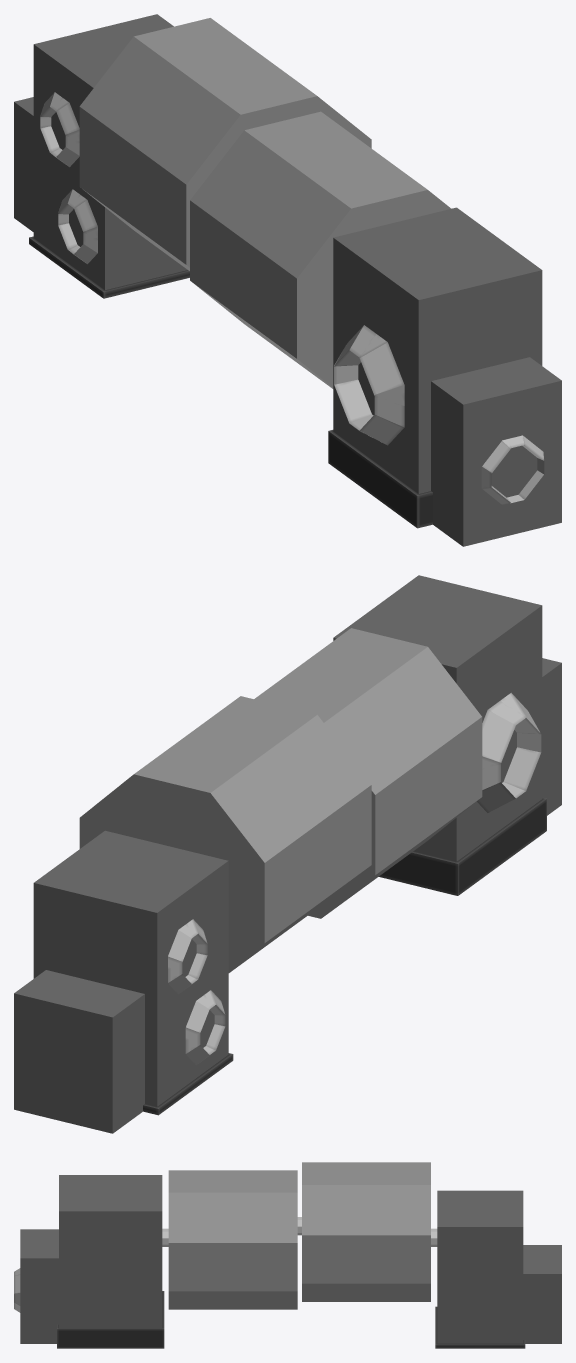
Rendered from Machinestuff.fbx.
3 views of the same model, one above another, from view 1: azimuth 30°, elevation 25°; view 2: azimuth 150°, elevation 25°; view 3: azimuth 270°, elevation 25° (orthographic). The views are drawn at different scales.
Visible parts, largest first — view 1: barrel2, bigm_1, barrel, smallm_1, bigm, ring_1, floor_1, smallm, ring, ring2, ring3, floor; view 2: barrel, bigm, barrel2, bigm_1, smallm, floor_1, ring_1, smallm_1, ring2, ring, floor; view 3: barrel2, barrel, bigm_1, bigm, smallm_1, smallm, floor_1, floor, ring3.
Part boxes in pixels (x1,y1,x2,y2): barrel2: [190, 111, 450, 388]; bigm_1: [333, 207, 542, 493]; barrel: [79, 18, 371, 270]; smallm_1: [431, 357, 561, 546]; bigm: [33, 14, 187, 290]; ring_1: [334, 325, 404, 445]; floor_1: [328, 430, 432, 528]; smallm: [14, 97, 33, 231]; ring: [40, 92, 79, 167]; ring2: [58, 189, 97, 264]; ring3: [481, 435, 544, 504]; floor: [29, 236, 189, 298]; barrel: [79, 696, 371, 972]; bigm: [33, 830, 228, 1106]; barrel2: [254, 628, 482, 918]; bigm_1: [333, 575, 542, 861]; smallm: [14, 970, 144, 1133]; floor_1: [379, 797, 546, 895]; ring_1: [477, 692, 541, 812]; smallm_1: [542, 658, 561, 815]; ring2: [185, 990, 225, 1065]; ring: [168, 919, 207, 994]; floor: [143, 1053, 233, 1115]; barrel2: [168, 1170, 297, 1309]; barrel: [302, 1162, 430, 1301]; bigm_1: [59, 1175, 162, 1328]; bigm: [437, 1190, 523, 1343]; smallm_1: [20, 1229, 58, 1343]; smallm: [523, 1245, 561, 1343]; floor_1: [57, 1291, 164, 1348]; floor: [435, 1306, 525, 1348]; ring3: [14, 1268, 20, 1312].
Size of the model in its own units: 188 by 250 by 797.
Materials: 4 (4 with a texture image).
